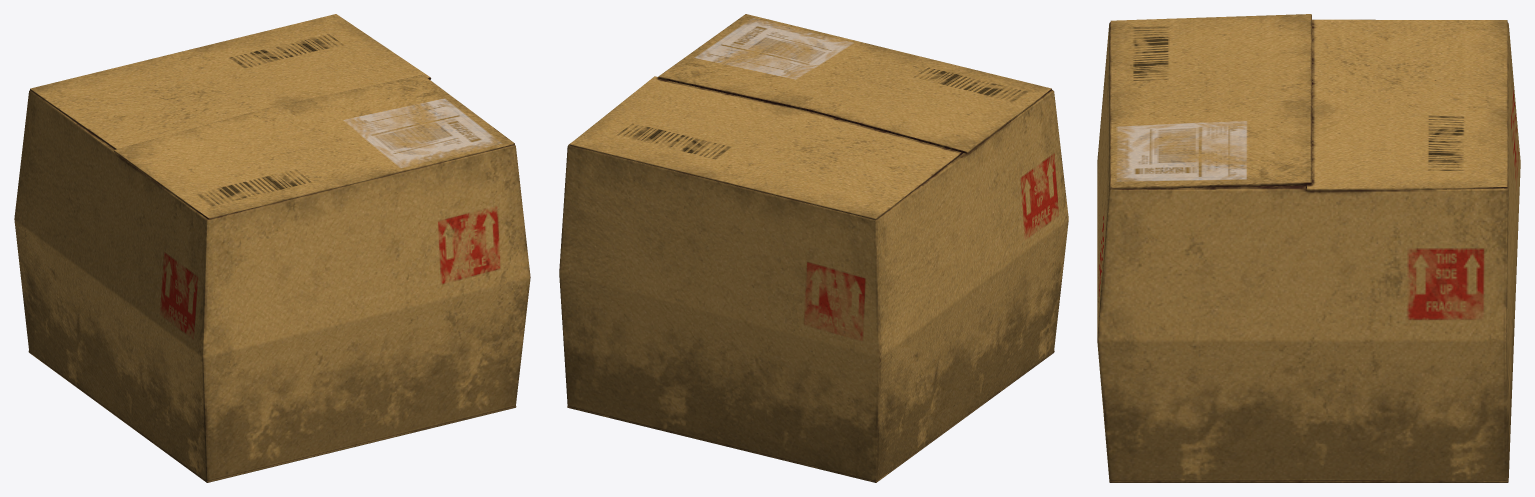
File: cardboard_box_low_poly.glb
The picture shows the model from 3 angles, left to right: view 1: azimuth 30°, elevation 25°; view 2: azimuth 150°, elevation 25°; view 3: azimuth 270°, elevation 25°; orthographic projection. The views are drawn at different scales.
Visible parts, largest first — view 1: polySurface4; view 2: polySurface4; view 3: polySurface4.
Part boxes in pixels (x1=…): polySurface4: x1=14, y1=14, x2=530, y2=482; polySurface4: x1=559, y1=14, x2=1068, y2=482; polySurface4: x1=1097, y1=14, x2=1520, y2=482.
Bounding box in the file's own units: 0.6017 × 0.4776 × 0.6017.
Materials: 1 (1 with a texture image).
